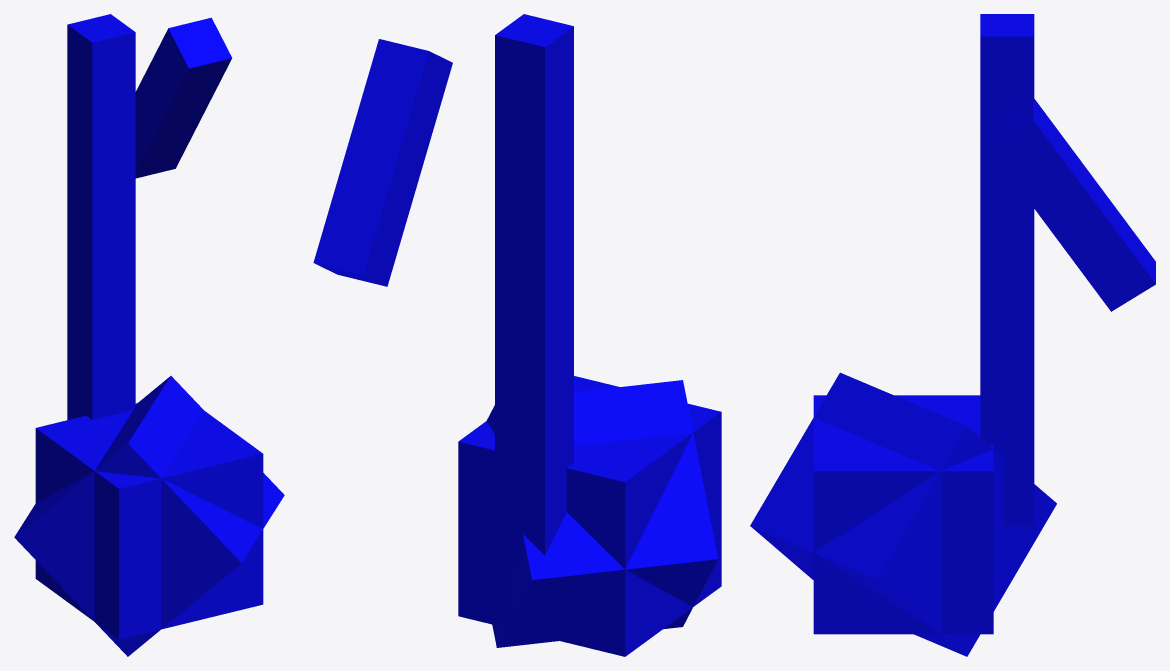
File: quaver.dae
The picture shows the model from 3 angles, left to right: view 1: azimuth 30°, elevation 25°; view 2: azimuth 150°, elevation 25°; view 3: azimuth 270°, elevation 25°; orthographic projection. The views are drawn at different scales.
Visible parts, largest first — view 1: Cube.001, Cube, Cube.002, Cube.004; view 2: Cube.001, Cube, Cube.002, Cube.004; view 3: Cube.002, Cube, Cube.001, Cube.004.
Boxes of the visible parts, x1,y1,x2,y2 form: Cube.001: (67,14,135,419); Cube: (35,403,263,639); Cube.002: (14,376,284,656); Cube.004: (135,17,231,178); Cube.001: (495,14,573,565); Cube: (458,376,721,656); Cube.002: (486,380,717,647); Cube.004: (313,39,452,286); Cube.002: (750,372,1056,656); Cube: (813,395,993,634); Cube.001: (980,14,1034,526); Cube.004: (988,97,1155,311).
Bounding box in the file's own units: 0.1707 × 0.2256 × 0.3707.
